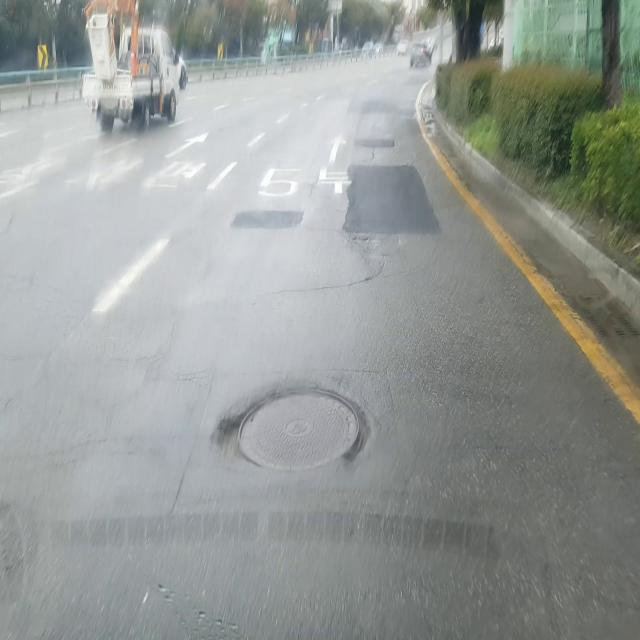Pothole: (210, 384, 368, 472)
